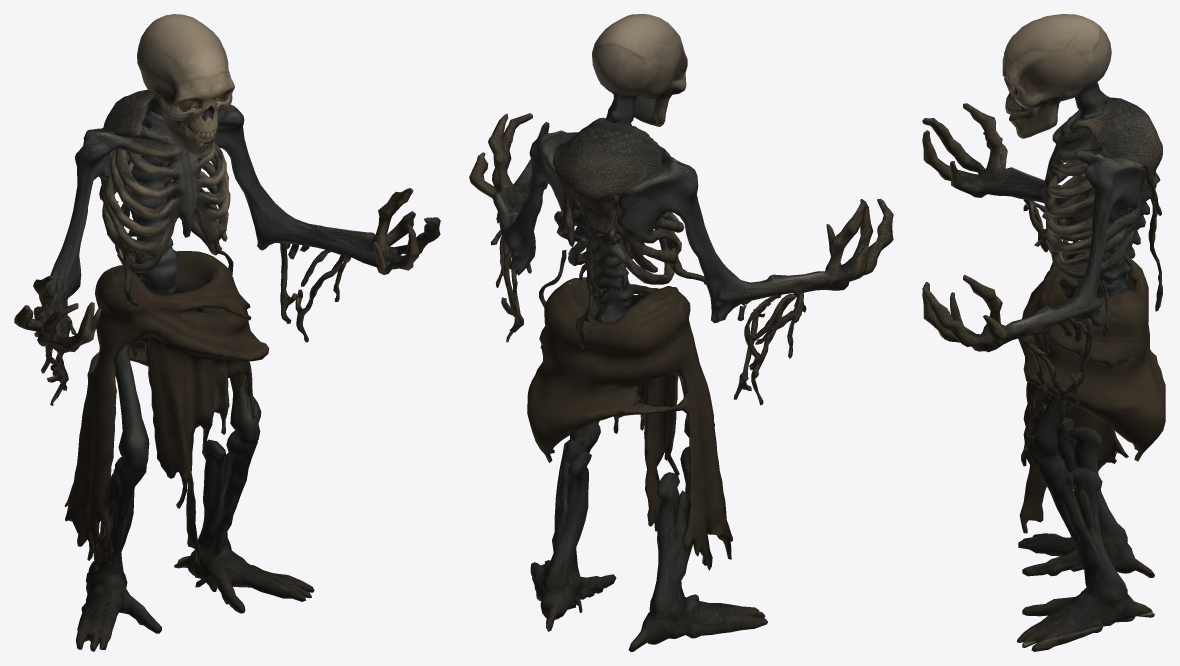
Rendered from graveborn_relief.glb.
3 views of the same model, side by side, from view 1: azimuth 30°, elevation 25°; view 2: azimuth 150°, elevation 25°; view 3: azimuth 270°, elevation 25° (orthographic). The views are drawn at different scales.
Visible parts, largest first — view 1: mesh_node; view 2: mesh_node; view 3: mesh_node.
Boxes of the visible parts, x1,y1,x2,y2 form: mesh_node: (14, 14, 440, 651); mesh_node: (469, 14, 893, 651); mesh_node: (922, 14, 1165, 651).
Size of the model in its own units: 1.33 by 1.91 by 0.7242.
Materials: 1 (1 with a texture image).
